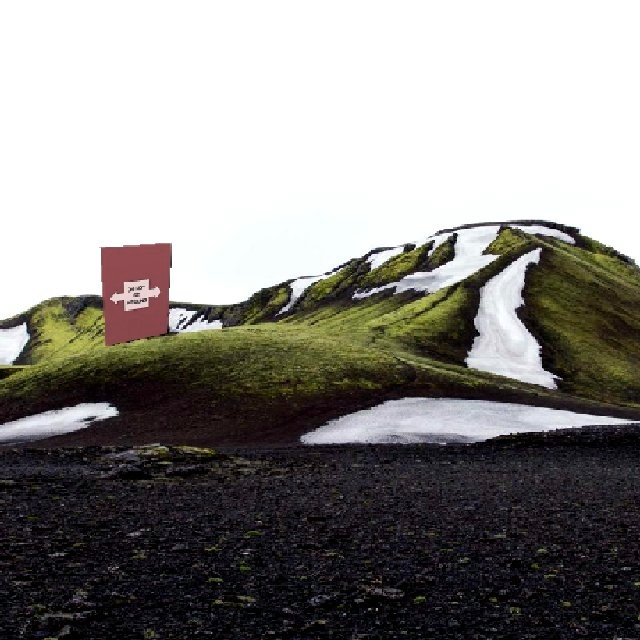DO_NOT_GO_AROUND: (107, 276, 161, 312)
